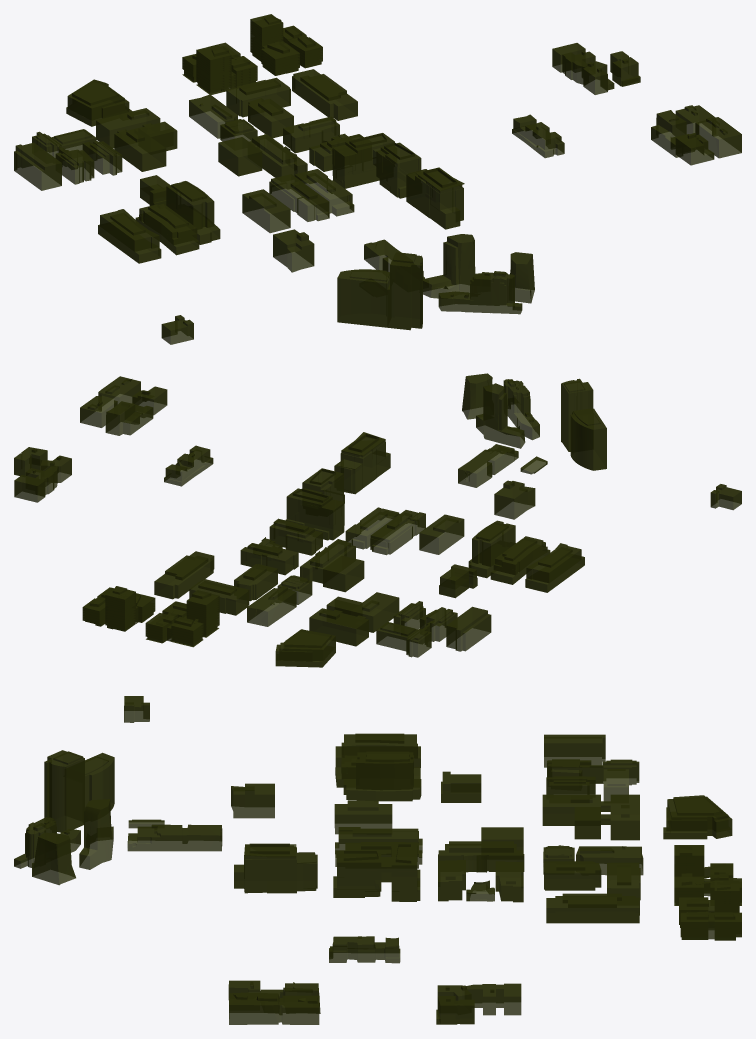
Rendered from VUL_New Building.FBX.
3 views of the same model, one above another, from view 1: azimuth 30°, elevation 25°; view 2: azimuth 150°, elevation 25°; view 3: azimuth 270°, elevation 25° (orthographic). The views are drawn at different scales.
Parts seen in each view (by area): view 1: VUL_8729740000_NEW2008, VUL_2357000000_NEW2012, VUL_1986200460_NEW2012, VUL_6849700175_NEW2008, VUL_1983200065_NEW2016, VUL_4129300000_NEW2020, VUL_1988201480_NEW2008, VUL_6849200065_NEW2016, VUL_1983200325_NEW2012, VUL_4129320000_NEW2020, VUL_1986200350_NEW2012, VUL_1983200290_NEW2012 (+18 smaller); view 2: VUL_8729740000_NEW2008, VUL_6849700175_NEW2008, VUL_2357000000_NEW2012, VUL_1986200460_NEW2012, VUL_1983200065_NEW2016, VUL_4129320000_NEW2020, VUL_1988201480_NEW2008, VUL_1983200290_NEW2012, VUL_4129300000_NEW2020, VUL_6849200065_NEW2016, VUL_1986200350_NEW2012, VUL_1983200325_NEW2012 (+18 smaller); view 3: VUL_8729740000_NEW2008, VUL_2357000000_NEW2012, VUL_1986200460_NEW2012, VUL_1983200065_NEW2016, VUL_6849700175_NEW2008, VUL_1986200350_NEW2012, VUL_1991201265_NEW2016, VUL_1988201480_NEW2008, VUL_4129300000_NEW2020, VUL_6849200065_NEW2016, VUL_1983200325_NEW2012, VUL_1983200585_NEW2012 (+17 smaller).
Boxes of the visible parts, x1=… form: VUL_8729740000_NEW2008: x1=423, y1=234, x2=534, y2=314; VUL_2357000000_NEW2012: x1=337, y1=252, x2=422, y2=330; VUL_1986200460_NEW2012: x1=332, y1=133, x2=421, y2=198; VUL_6849700175_NEW2008: x1=651, y1=105, x2=741, y2=165; VUL_1983200065_NEW2016: x1=96, y1=108, x2=177, y2=171; VUL_4129300000_NEW2020: x1=250, y1=14, x2=322, y2=75; VUL_1988201480_NEW2008: x1=32, y1=129, x2=122, y2=184; VUL_6849200065_NEW2016: x1=552, y1=43, x2=640, y2=94; VUL_1983200325_NEW2012: x1=226, y1=77, x2=293, y2=138; VUL_4129320000_NEW2020: x1=182, y1=42, x2=257, y2=94; VUL_1986200350_NEW2012: x1=406, y1=167, x2=464, y2=229; VUL_1983200290_NEW2012: x1=283, y1=116, x2=363, y2=171; VUL_8729740000_NEW2008: x1=462, y1=373, x2=539, y2=448; VUL_6849700175_NEW2008: x1=80, y1=376, x2=167, y2=435; VUL_2357000000_NEW2012: x1=561, y1=378, x2=606, y2=470; VUL_1986200460_NEW2012: x1=286, y1=468, x2=344, y2=540; VUL_1983200065_NEW2016: x1=309, y1=592, x2=399, y2=646; VUL_4129320000_NEW2020: x1=145, y1=590, x2=219, y2=647; VUL_1988201480_NEW2008: x1=376, y1=601, x2=457, y2=657; VUL_1983200290_NEW2012: x1=240, y1=518, x2=322, y2=575; VUL_4129300000_NEW2020: x1=82, y1=586, x2=155, y2=631; VUL_6849200065_NEW2016: x1=14, y1=447, x2=71, y2=502; VUL_1986200350_NEW2012: x1=334, y1=432, x2=390, y2=494; VUL_1983200325_NEW2012: x1=189, y1=564, x2=277, y2=615; VUL_8729740000_NEW2008: x1=14, y1=799, x2=113, y2=885; VUL_2357000000_NEW2012: x1=44, y1=750, x2=114, y2=832; VUL_1986200460_NEW2012: x1=333, y1=842, x2=420, y2=901; VUL_1983200065_NEW2016: x1=542, y1=794, x2=639, y2=840; VUL_6849700175_NEW2008: x1=228, y1=980, x2=320, y2=1024; VUL_1986200350_NEW2012: x1=234, y1=843, x2=317, y2=893; VUL_1991201265_NEW2016: x1=343, y1=751, x2=421, y2=801; VUL_1988201480_NEW2008: x1=546, y1=759, x2=639, y2=801; VUL_4129300000_NEW2020: x1=679, y1=880, x2=741, y2=940; VUL_6849200065_NEW2016: x1=436, y1=983, x2=521, y2=1024; VUL_1983200325_NEW2012: x1=544, y1=861, x2=640, y2=900; VUL_1983200585_NEW2012: x1=546, y1=893, x2=639, y2=923.
Bounding box in the file's own units: 943 × 107 × 911.
